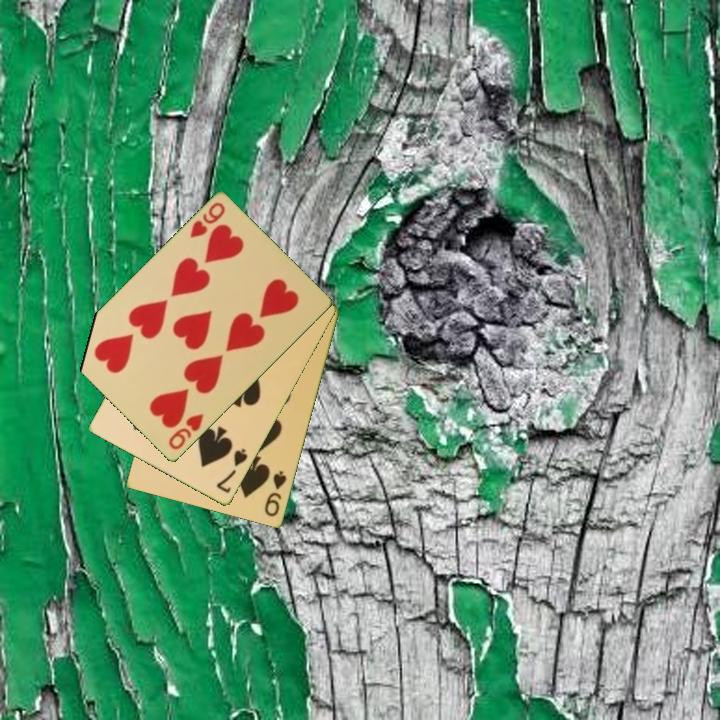7s: (213, 445, 251, 496)
9h: (165, 410, 207, 453), (186, 199, 228, 242)
9s: (261, 467, 290, 520)
